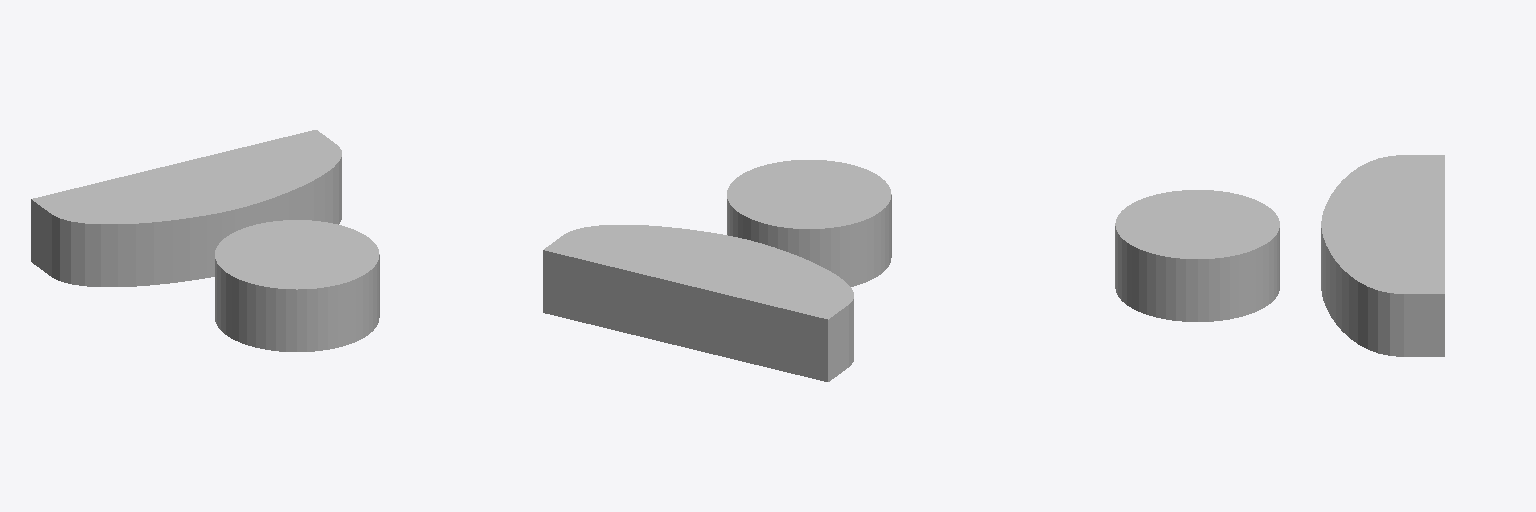
Rendered from user.obj.
3 views of the same model, side by side, from view 1: azimuth 30°, elevation 25°; view 2: azimuth 150°, elevation 25°; view 3: azimuth 270°, elevation 25° (orthographic).
Visible parts, largest first — view 1: User_Curve.001; view 2: User_Curve.001; view 3: User_Curve.001.
Boxes of the visible parts, x1=… form: User_Curve.001: x1=31, y1=130, x2=379, y2=351; User_Curve.001: x1=543, y1=160, x2=891, y2=381; User_Curve.001: x1=1115, y1=155, x2=1444, y2=356.
Bounding box in the file's own units: 14.38 × 3.03 × 14.37.